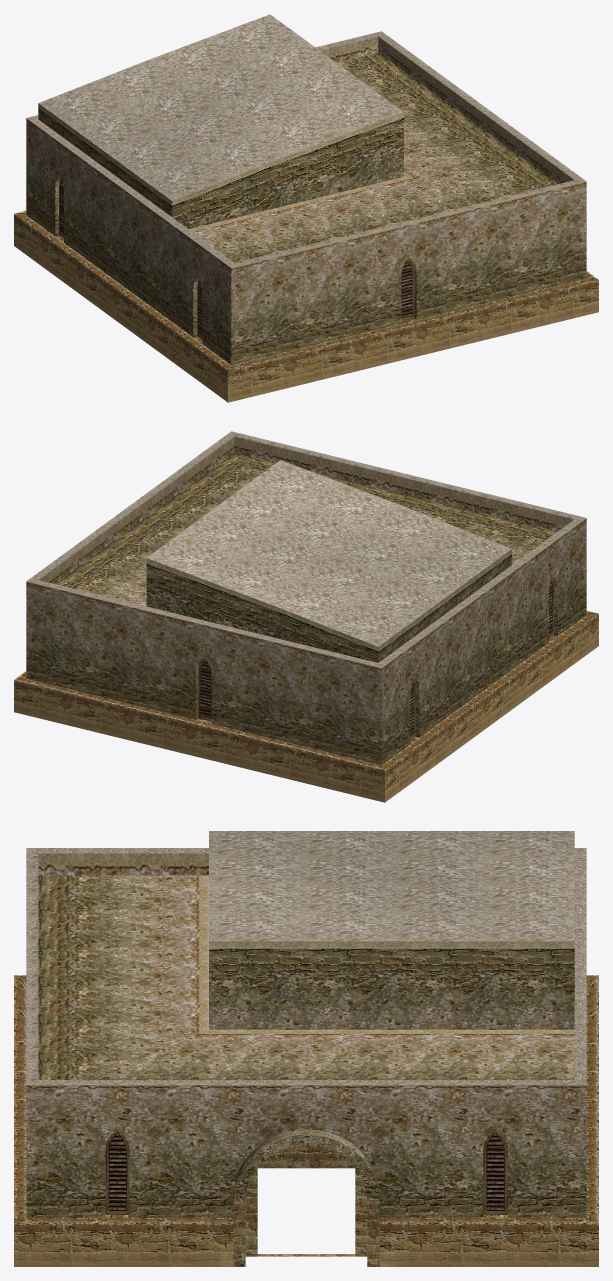
Rendered from M5Z1_VillageExt_04.glb.
3 renders of one model, top to bottom at view 1: azimuth 30°, elevation 25°; view 2: azimuth 150°, elevation 25°; view 3: azimuth 270°, elevation 25°, orthographic. The views are drawn at different scales.
Visible parts, largest first — view 1: M5Z1_VILLAGEEXT_04; view 2: M5Z1_VILLAGEEXT_04; view 3: M5Z1_VILLAGEEXT_04.
Part boxes in pixels (x1=…): M5Z1_VILLAGEEXT_04: x1=14, y1=14, x2=598, y2=402; M5Z1_VILLAGEEXT_04: x1=14, y1=431, x2=598, y2=802; M5Z1_VILLAGEEXT_04: x1=14, y1=831, x2=598, y2=1266.
Bounding box in the file's own units: 12 × 5.5 × 12.
5 materials, 5 textured.
